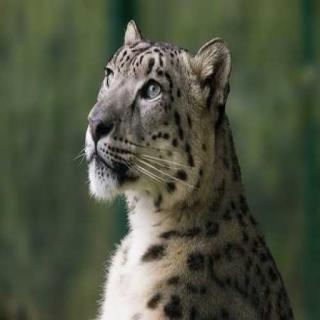Leopard: (63, 19, 290, 320)
